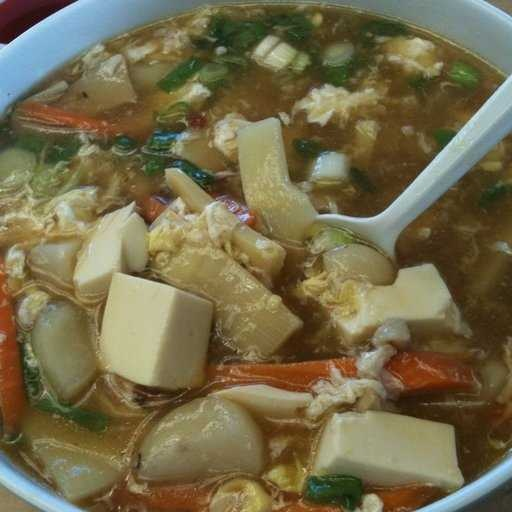soup: (17, 21, 493, 501)
